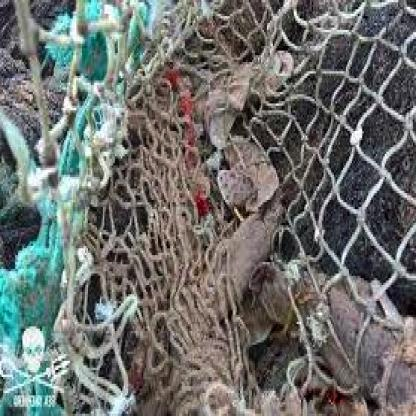net: (76, 2, 416, 416)
